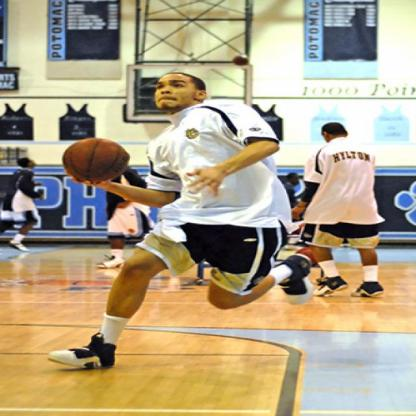basketball: (62, 135, 126, 182)
